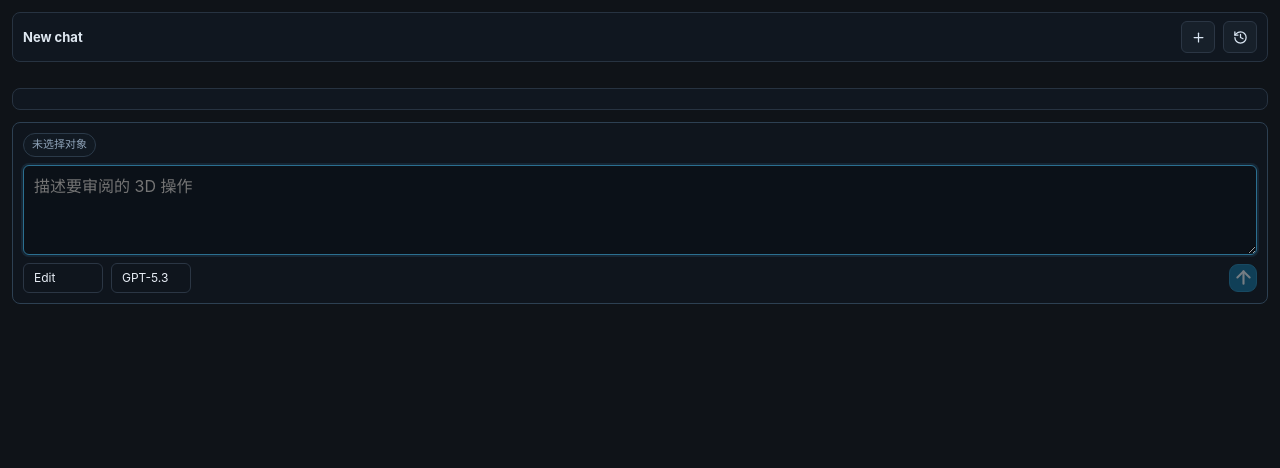
Test case: AgentPanel › asks users to switch to Agent mode when Edit receives a plan
The width and height of the screenshot is (1280, 468).
Step 1. Type "规划两步操作" into the text box named "AI 指令输入" → (640, 210), box [23, 165, 1257, 255]
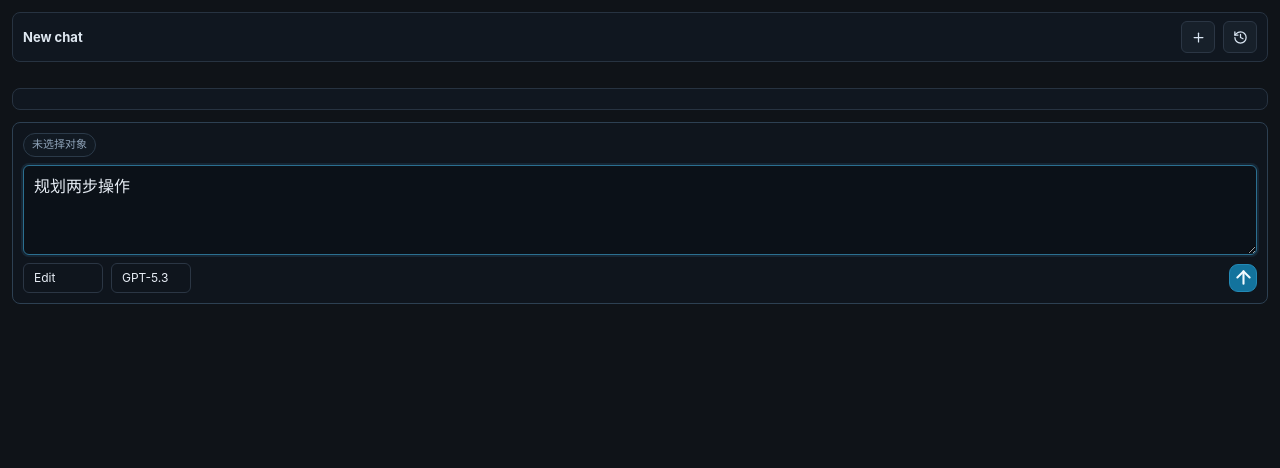
Step 2. Click the button named "发送指令" → (1243, 278), box [1229, 264, 1257, 292]
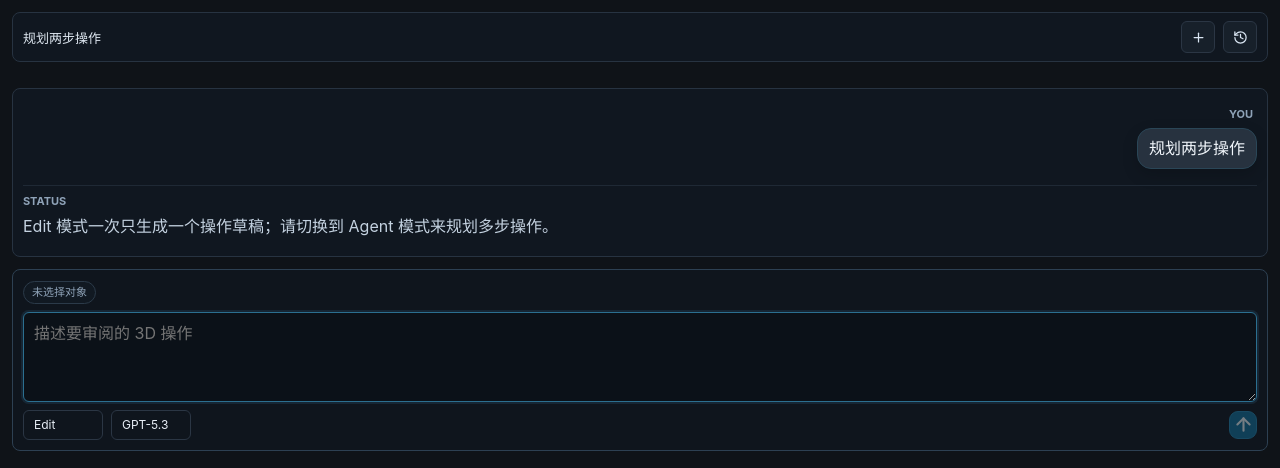
Expected: the text "Edit 模式一次只生成一个操作草稿；请切换到 Agent 模式来规划多步操作。" is shown, [23, 216, 558, 236]
